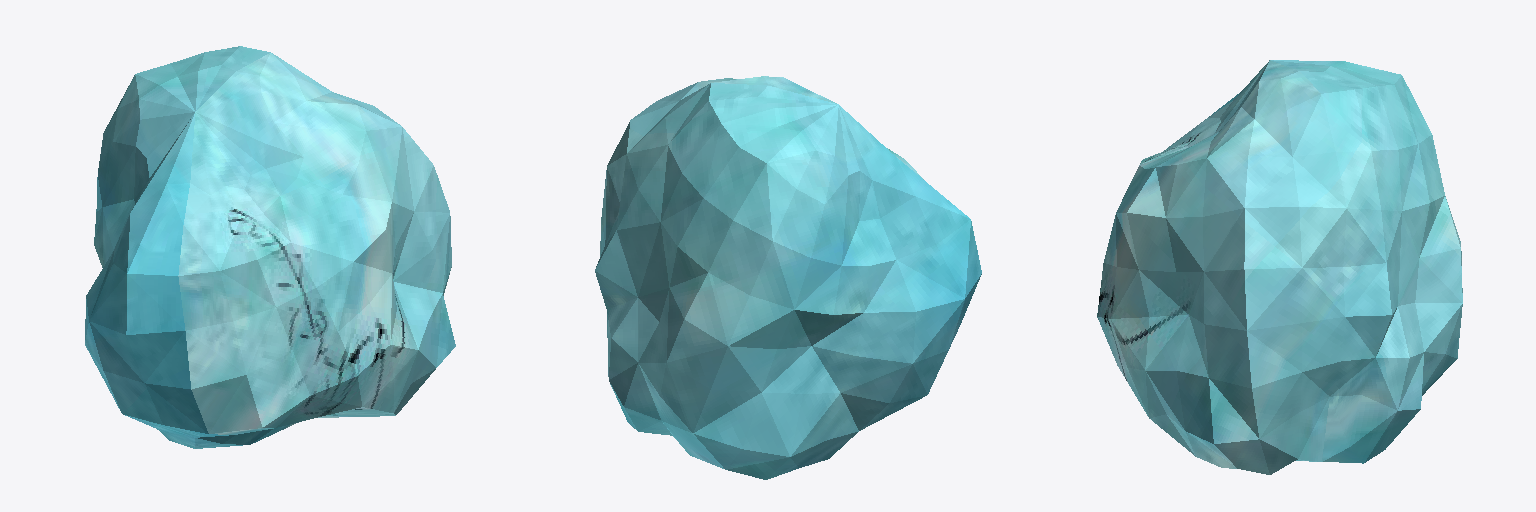
The picture shows the model from 3 angles: view 1: azimuth 30°, elevation 25°; view 2: azimuth 150°, elevation 25°; view 3: azimuth 270°, elevation 25°; orthographic projection.
Visible parts, largest first — view 1: Stone_1_LOD1; view 2: Stone_1_LOD1; view 3: Stone_1_LOD1.
Boxes of the visible parts, x1=… form: Stone_1_LOD1: x1=85, y1=46, x2=455, y2=448; Stone_1_LOD1: x1=595, y1=76, x2=981, y2=479; Stone_1_LOD1: x1=1097, y1=60, x2=1462, y2=474.
Size of the model in its own units: 160 by 151 by 139.
1 materials, 1 textured.